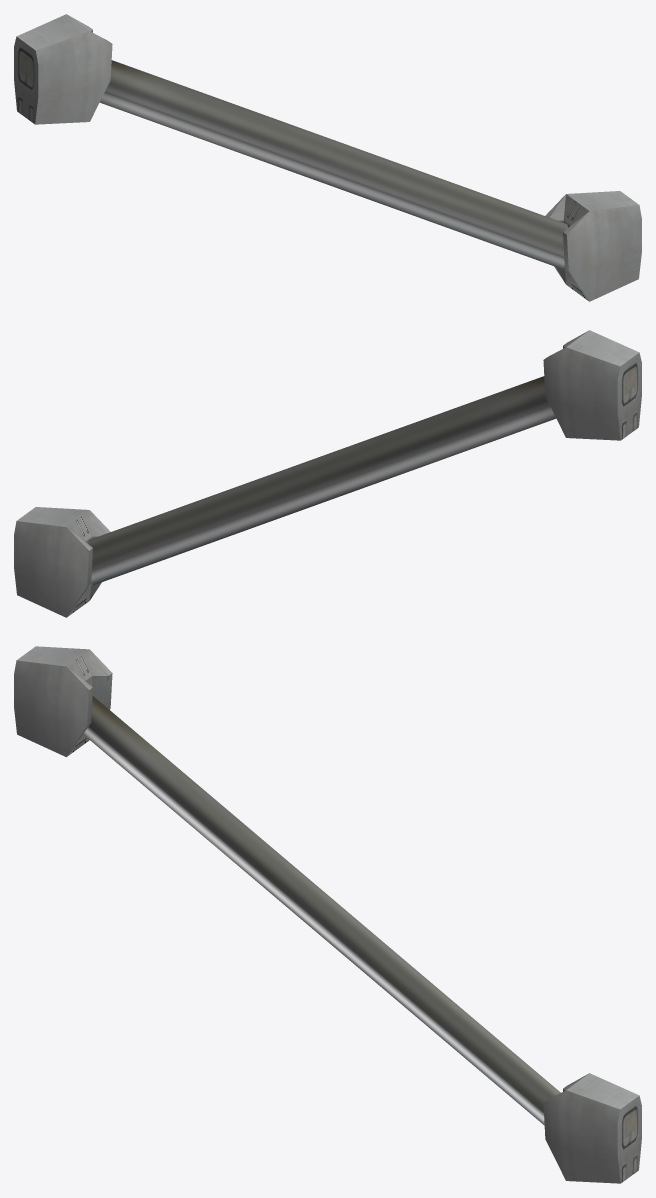
The model's file is strutConnector.DAE.
3 renders of one model, top to bottom at view 1: azimuth 30°, elevation 25°; view 2: azimuth 150°, elevation 25°; view 3: azimuth 330°, elevation 25°, orthographic.
Parts seen in each view (by area): view 1: obj_strut, obj_targetAnchor-Pivot, anchor-Pivot; view 2: obj_strut, obj_targetAnchor-Pivot, anchor-Pivot; view 3: obj_strut, anchor-Pivot, obj_targetAnchor-Pivot.
Boxes of the visible parts, x1,y1,x2,y2 form: obj_strut: [99, 60, 567, 269]; obj_targetAnchor-Pivot: [14, 14, 112, 124]; anchor-Pivot: [545, 191, 641, 301]; obj_strut: [88, 376, 556, 585]; obj_targetAnchor-Pivot: [543, 330, 641, 440]; anchor-Pivot: [14, 507, 110, 617]; obj_strut: [83, 696, 560, 1125]; anchor-Pivot: [543, 1073, 641, 1183]; obj_targetAnchor-Pivot: [14, 646, 112, 757].
Size of what is drawn, in the model's own units: 1.03 by 0.6397 by 0.0915.
